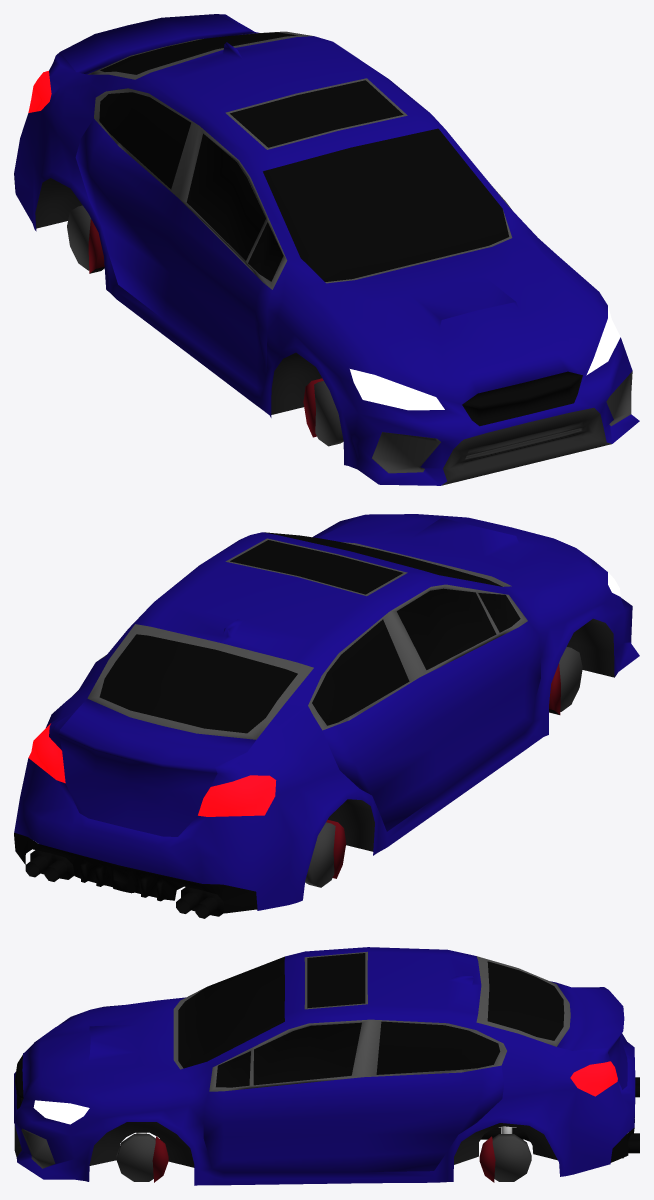
The model's file is wrx-chassis.glb.
The picture shows the model from 3 angles, top to bottom: view 1: azimuth 30°, elevation 25°; view 2: azimuth 150°, elevation 25°; view 3: azimuth 270°, elevation 25°; orthographic projection. The views are drawn at different scales.
Visible parts, largest first — view 1: body; view 2: body; view 3: body.
Boxes of the visible parts, bbox=[...] form: body: bbox=[14, 14, 639, 485]; body: bbox=[14, 514, 639, 918]; body: bbox=[14, 947, 639, 1185].
Size of the model in its own units: 2.01 by 1.46 by 5.14.
